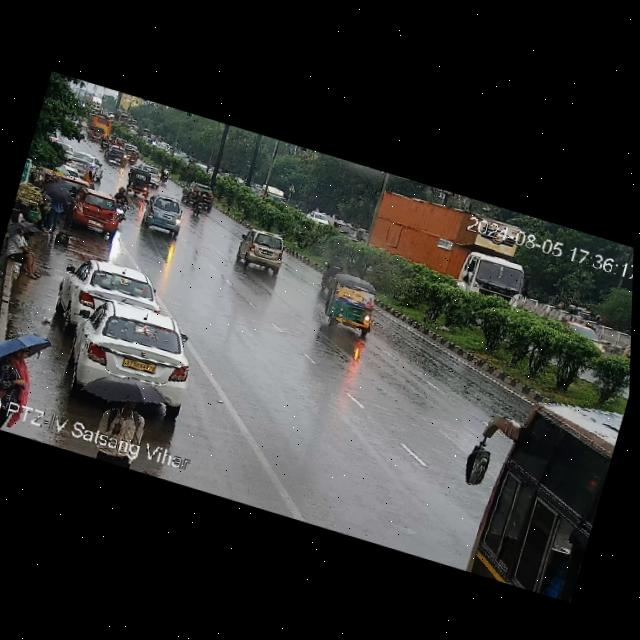bus: (430, 360, 625, 605), (87, 111, 113, 129)
car: (55, 291, 204, 420), (56, 250, 161, 336), (319, 265, 388, 339), (64, 184, 122, 237), (234, 226, 292, 279), (140, 192, 190, 239), (180, 178, 217, 208), (125, 166, 154, 195), (563, 301, 592, 324), (102, 144, 128, 167), (305, 209, 333, 226), (146, 164, 164, 188), (86, 125, 105, 143), (353, 224, 369, 245), (112, 135, 132, 150)
motorcycle: (110, 183, 135, 224), (320, 252, 344, 292), (188, 191, 213, 219), (159, 162, 172, 184), (98, 134, 112, 152), (127, 149, 137, 166)
person: (95, 375, 163, 452), (27, 170, 77, 238), (0, 222, 49, 277), (0, 342, 41, 399)
truck: (355, 182, 544, 313), (258, 183, 286, 205)
